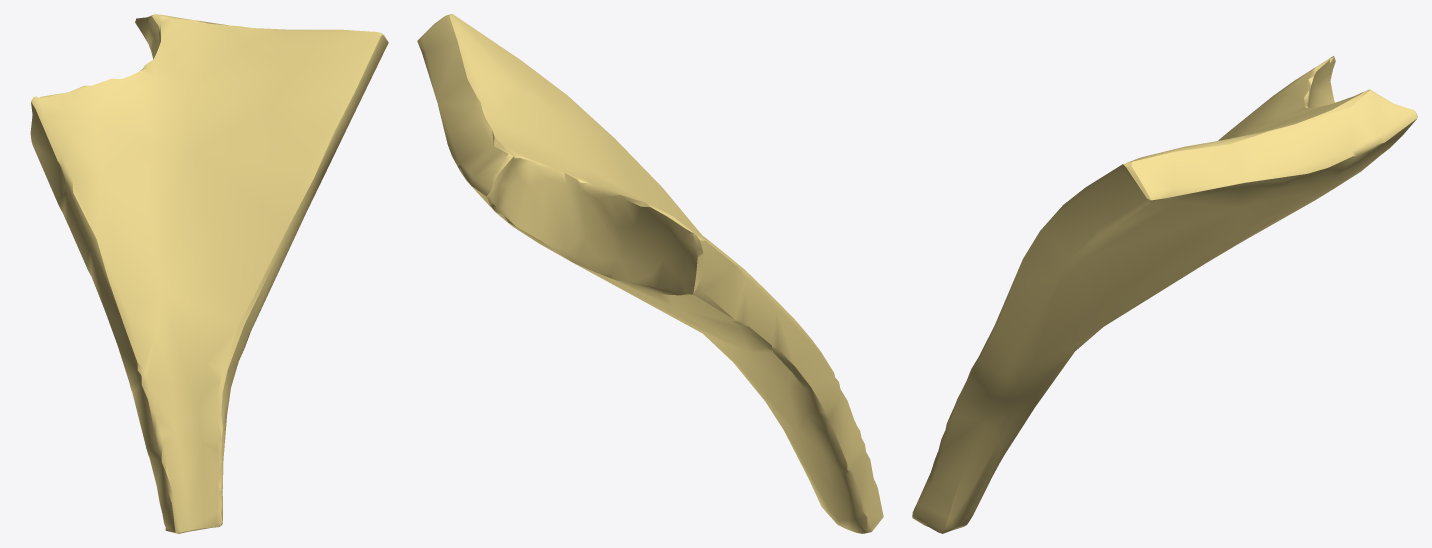
Rendered from fma62327_fj1780.glb.
3 views of the same model, side by side, from view 1: azimuth 30°, elevation 25°; view 2: azimuth 150°, elevation 25°; view 3: azimuth 270°, elevation 25° (orthographic). The views are drawn at different scales.
Parts seen in each view (by area): view 1: FMA62327_FJ1780; view 2: FMA62327_FJ1780; view 3: FMA62327_FJ1780.
Part boxes in pixels (x1,y1,x2,y2): FMA62327_FJ1780: [30, 14, 388, 533]; FMA62327_FJ1780: [417, 14, 883, 533]; FMA62327_FJ1780: [912, 56, 1417, 533].
Size of the model in its own units: 0.0086 by 0.011 by 0.00949.
